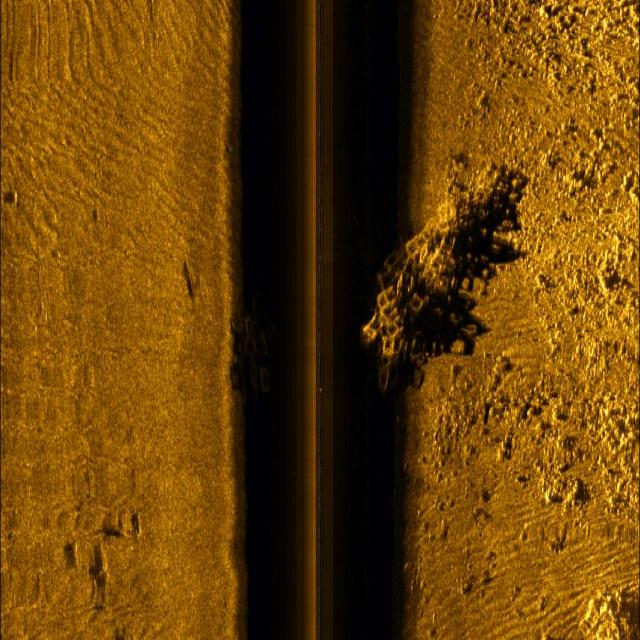artificial reef: (355, 140, 516, 394), (211, 303, 282, 415)
